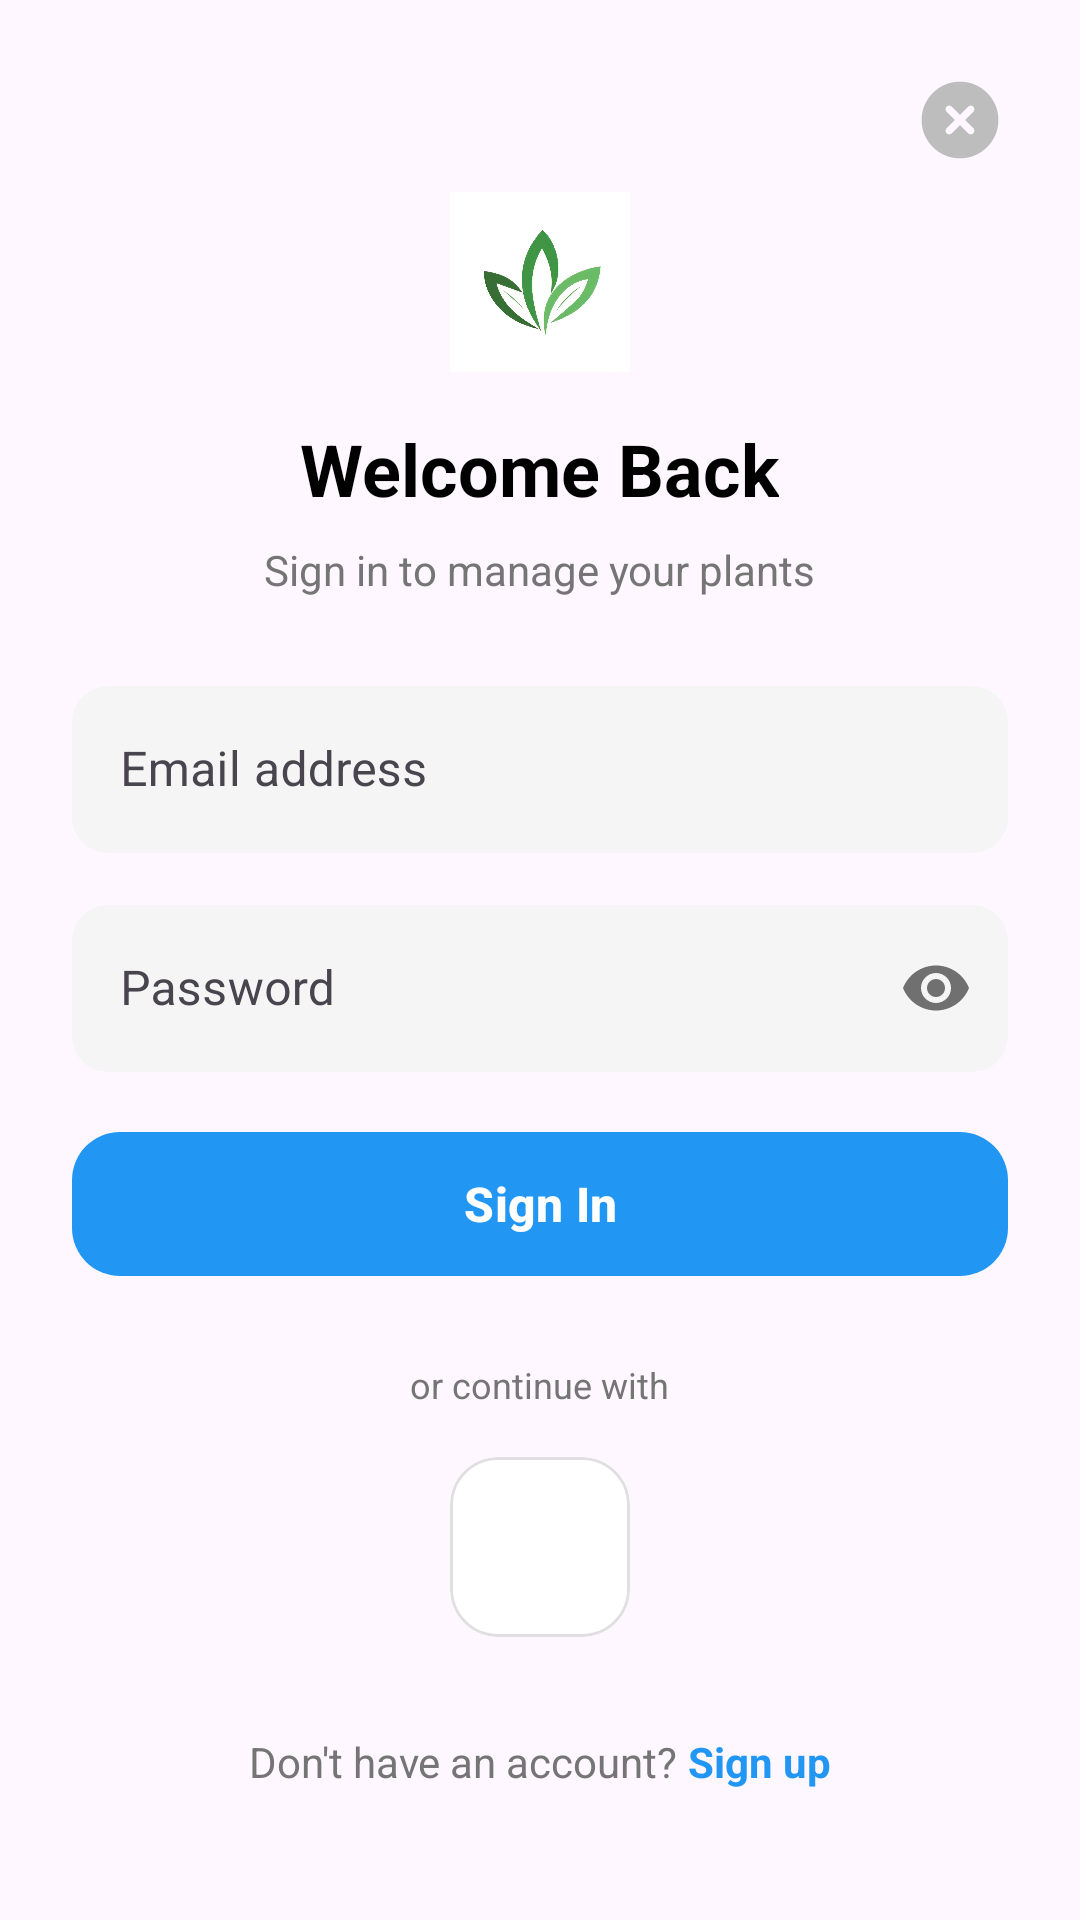

Point at icon controls on the screen. Image size 1080×1920, points as point (x, y).
circle xmark full: point (960, 120)
